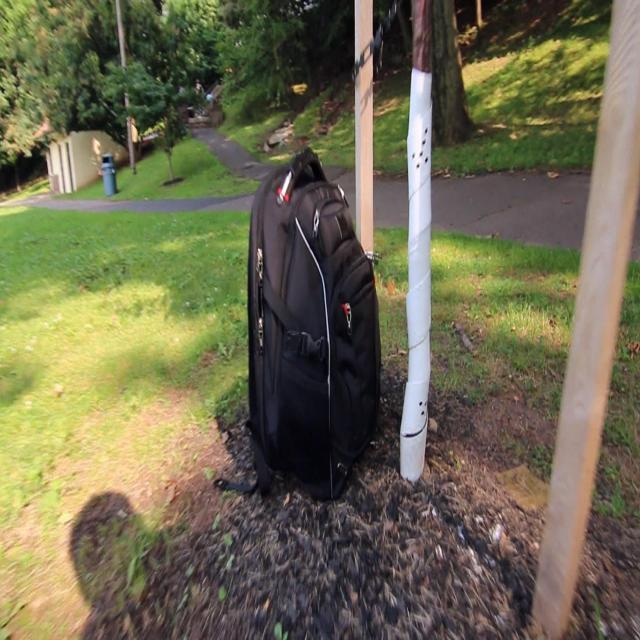Backpacks: (244, 145, 388, 505)
